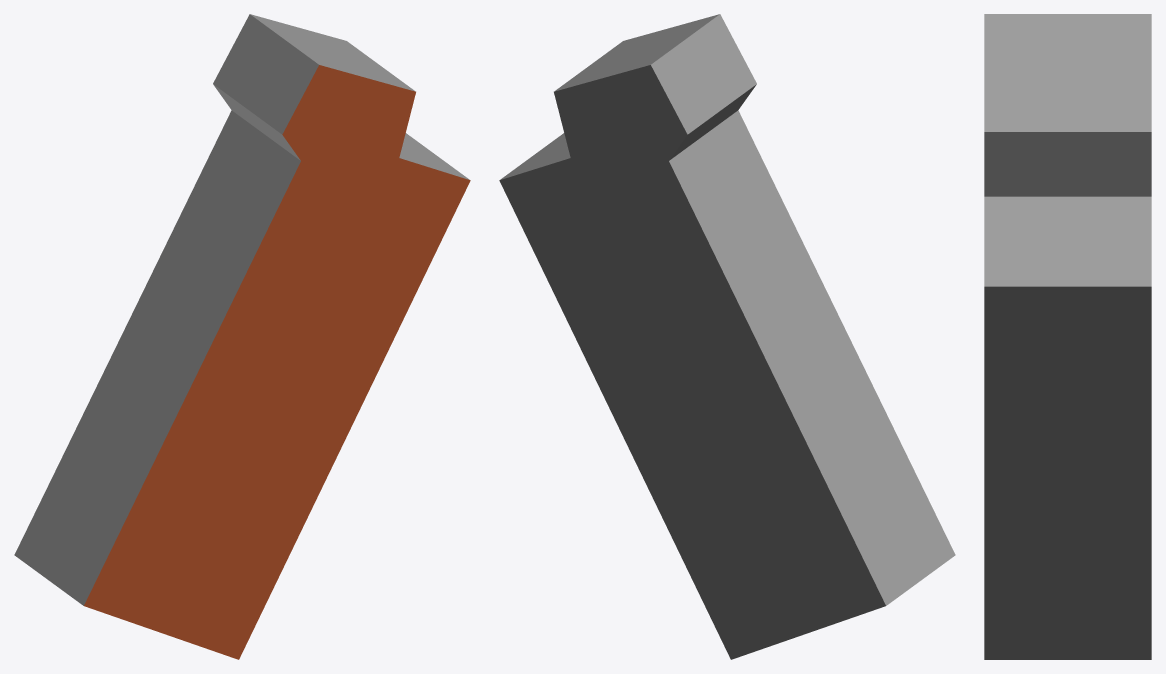
The model's file is construction_3777_assumed_A_Casa_h6m.obj.
The picture shows the model from 3 angles, left to right: view 1: azimuth 30°, elevation 25°; view 2: azimuth 150°, elevation 25°; view 3: azimuth 270°, elevation 25°; orthographic projection. The views are drawn at different scales.
Visible parts, largest first — view 1: construction_3777_assumed_A_Casa; view 2: construction_3777_assumed_A_Casa; view 3: construction_3777_assumed_A_Casa.
Part boxes in pixels (bbox=[...]): construction_3777_assumed_A_Casa: bbox=[14, 14, 470, 659]; construction_3777_assumed_A_Casa: bbox=[499, 14, 955, 659]; construction_3777_assumed_A_Casa: bbox=[984, 14, 1151, 659].
Bounding box in the file's own units: 19.29 × 27.42 × 6.
